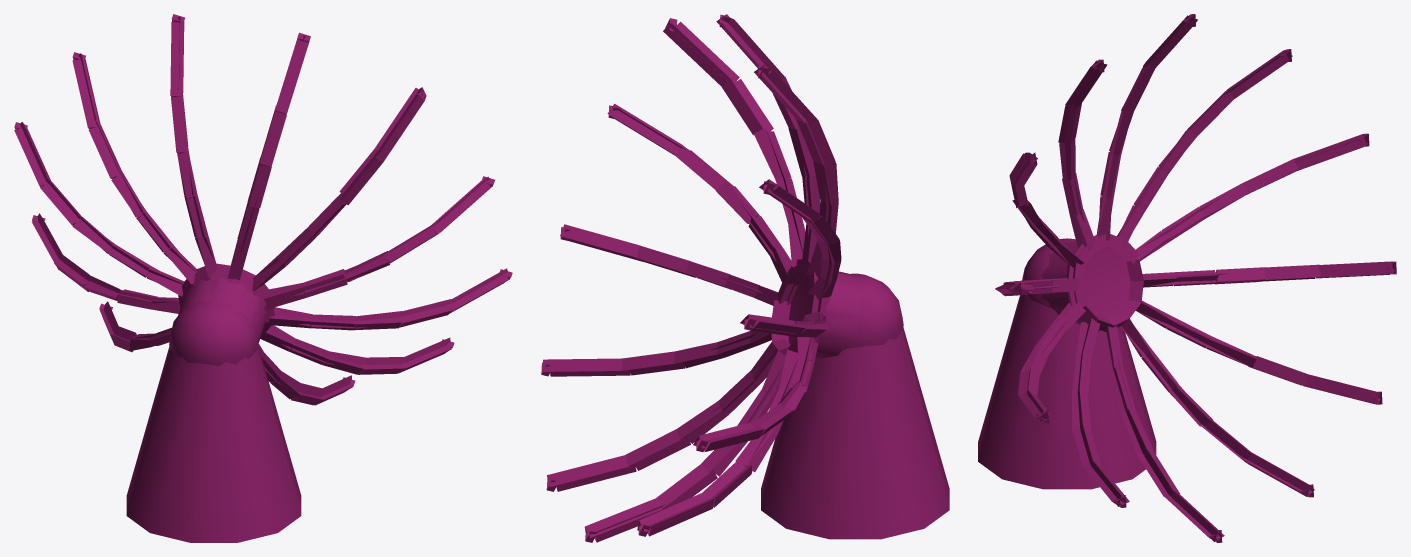
The model's file is Radar_Construction2.FBX.
The picture shows the model from 3 angles, left to right: view 1: azimuth 30°, elevation 25°; view 2: azimuth 150°, elevation 25°; view 3: azimuth 270°, elevation 25°; orthographic projection. The views are drawn at different scales.
Visible parts, largest first — view 1: Dish, Base, Ball, Mount; view 2: Dish, Base, Mount, Ball; view 3: Dish, Base, Mount, Ball.
Part boxes in pixels (bbox=[...]): Dish: bbox=[14, 14, 512, 405]; Base: bbox=[126, 345, 301, 542]; Ball: bbox=[169, 301, 258, 365]; Mount: bbox=[178, 277, 267, 344]; Dish: bbox=[541, 14, 841, 542]; Base: bbox=[761, 327, 949, 539]; Mount: bbox=[788, 271, 865, 360]; Ball: bbox=[848, 273, 903, 348]; Dish: bbox=[995, 14, 1396, 542]; Base: bbox=[978, 295, 1156, 489]; Mount: bbox=[1041, 241, 1130, 324]; Ball: bbox=[1022, 238, 1075, 307].
Bounding box in the file's own units: 1.15 × 1.34 × 1.13.
Materials: 1 (1 with a texture image).
